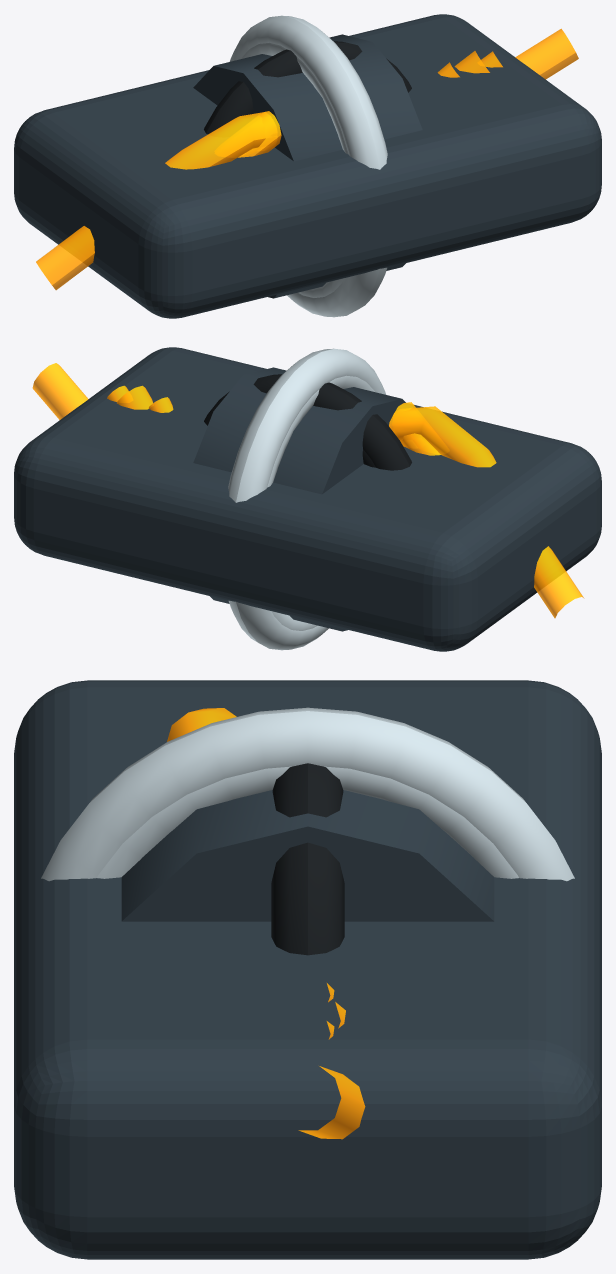
File: body_19.glb
3 views of the same model, one above another, from view 1: azimuth 30°, elevation 25°; view 2: azimuth 150°, elevation 25°; view 3: azimuth 270°, elevation 25° (orthographic). The views are drawn at different scales.
Parts seen in each view (by area): view 1: asset_mesh__body_0971__reference_body, asset_mesh__body_0988__rotor, asset_mesh__body_0988__functional_ring, asset_mesh__body_0989__fluid_path, asset_mesh__body_0976__service_element, asset_mesh__body_0987__functional_ring, asset_mesh__body_0983__fluid_path; view 2: asset_mesh__body_0971__reference_body, asset_mesh__body_0988__rotor, asset_mesh__body_0988__functional_ring, asset_mesh__body_0989__fluid_path, asset_mesh__body_0976__service_element, asset_mesh__body_0987__functional_ring, asset_mesh__body_0983__fluid_path; view 3: asset_mesh__body_0971__reference_body, asset_mesh__body_0988__rotor, asset_mesh__body_0988__functional_ring, asset_mesh__body_0976__service_element, asset_mesh__body_0987__functional_ring, asset_mesh__body_0989__fluid_path.
Part boxes in pixels (x1,y1,x2,y2): asset_mesh__body_0971__reference_body: (14,14,601,318); asset_mesh__body_0988__rotor: (193,34,422,298); asset_mesh__body_0988__functional_ring: (229,15,387,317); asset_mesh__body_0989__fluid_path: (36,28,578,290); asset_mesh__body_0976__service_element: (204,41,411,134); asset_mesh__body_0987__functional_ring: (241,42,348,297); asset_mesh__body_0983__fluid_path: (238,51,489,157); asset_mesh__body_0971__reference_body: (14,347,601,651); asset_mesh__body_0988__rotor: (193,367,405,631); asset_mesh__body_0988__functional_ring: (228,348,386,650); asset_mesh__body_0989__fluid_path: (32,363,584,618); asset_mesh__body_0976__service_element: (204,374,411,470); asset_mesh__body_0987__functional_ring: (267,375,374,630); asset_mesh__body_0983__fluid_path: (117,385,441,455); asset_mesh__body_0971__reference_body: (14,680,601,1259); asset_mesh__body_0988__rotor: (121,790,494,921); asset_mesh__body_0988__functional_ring: (41,707,574,881); asset_mesh__body_0976__service_element: (271,763,344,955); asset_mesh__body_0987__functional_ring: (97,766,518,878); asset_mesh__body_0989__fluid_path: (167,708,365,1139).
Bounding box in the file's own units: 1.73 × 0.8573 × 0.882.
